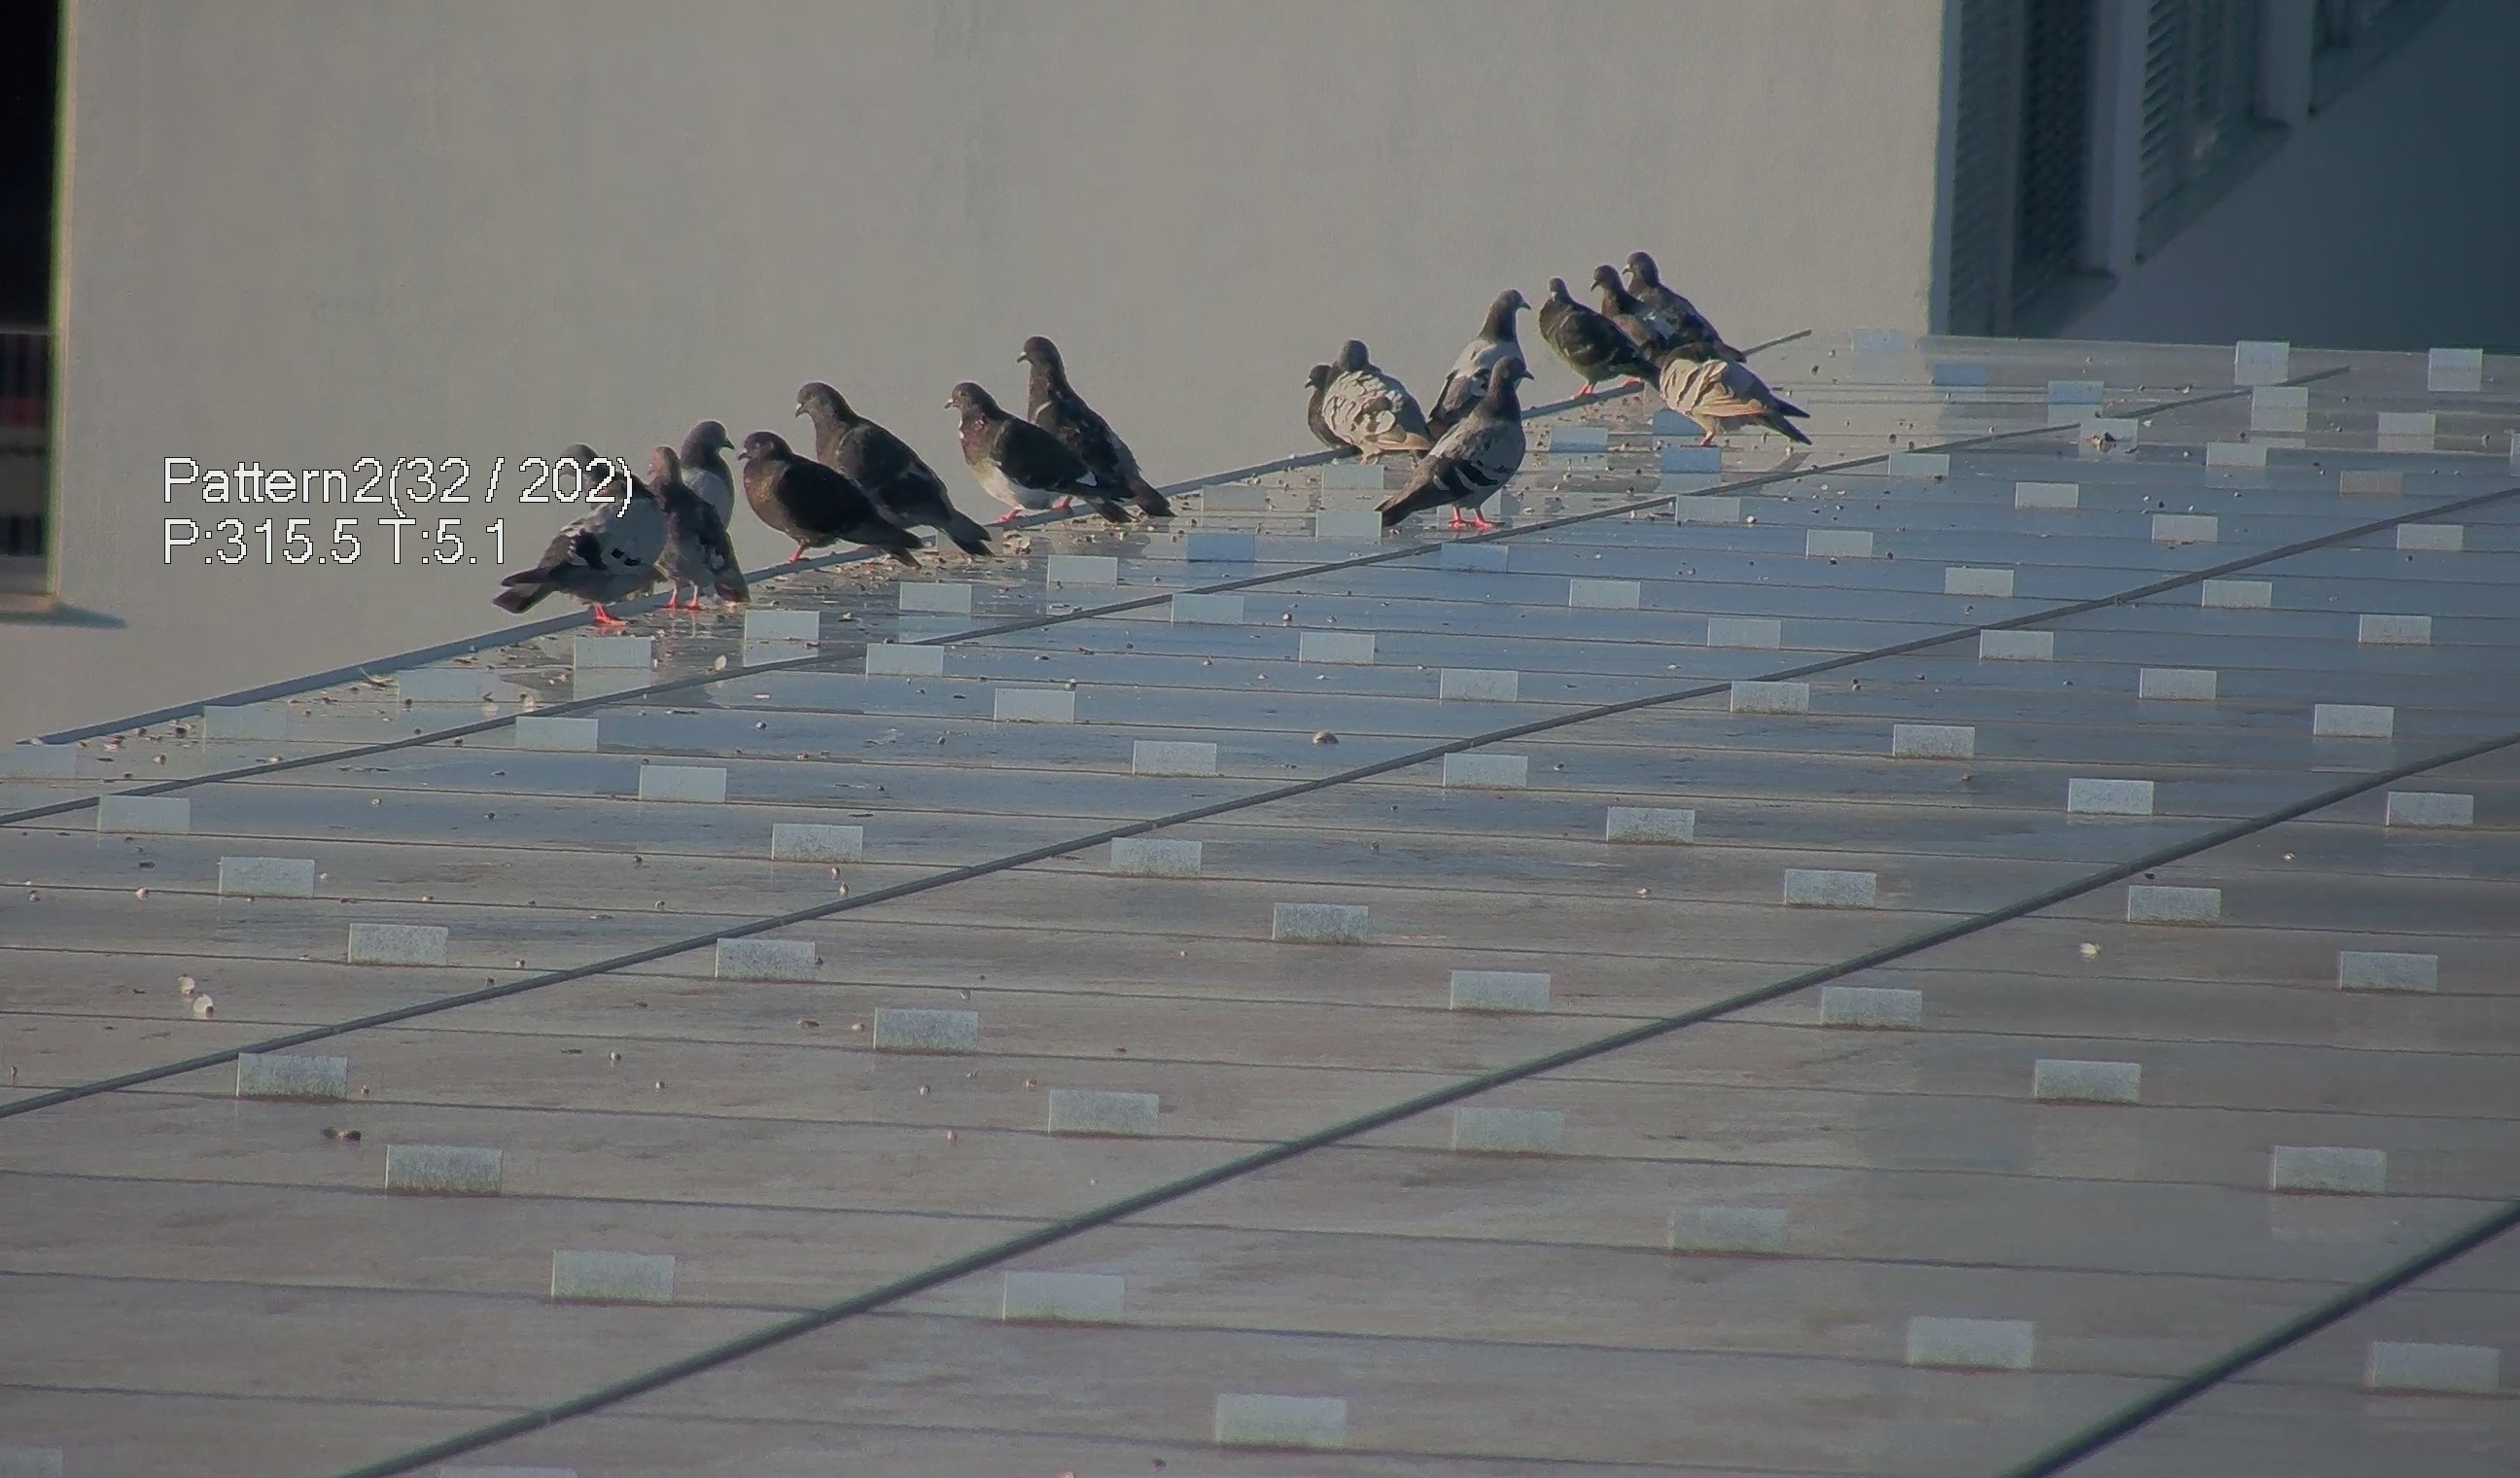Pigeon: (793, 385, 987, 551), (499, 442, 661, 637), (936, 375, 1124, 531), (1379, 354, 1546, 530), (740, 438, 921, 586), (1022, 327, 1157, 501), (631, 438, 737, 618), (1653, 336, 1817, 449), (1523, 269, 1660, 394), (1314, 336, 1437, 457), (1437, 287, 1532, 410), (1583, 248, 1709, 334), (688, 412, 751, 528)
